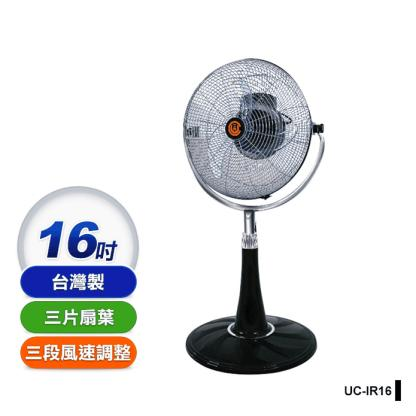fan: (176, 52, 334, 382)
